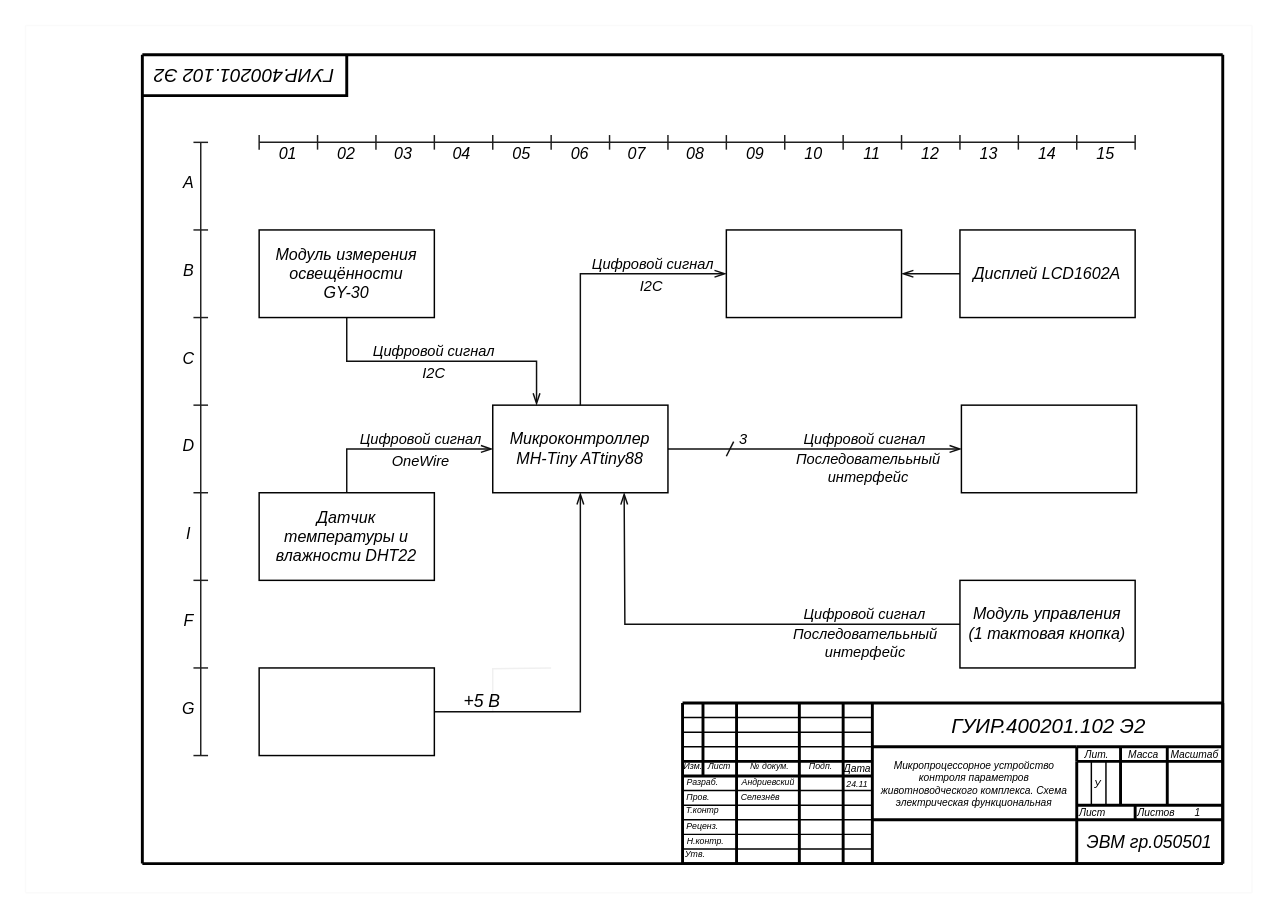
This 1279x920 diagram has some shape labels left out. Here are the shapes that lost their labels. From the top down, the centre of each, then its label:
(813,273): Модуль последовательного интерфейса I2C HW-061
(1048,448): Модуль индикации (3 светодиода)
(346,711): Блок питания
